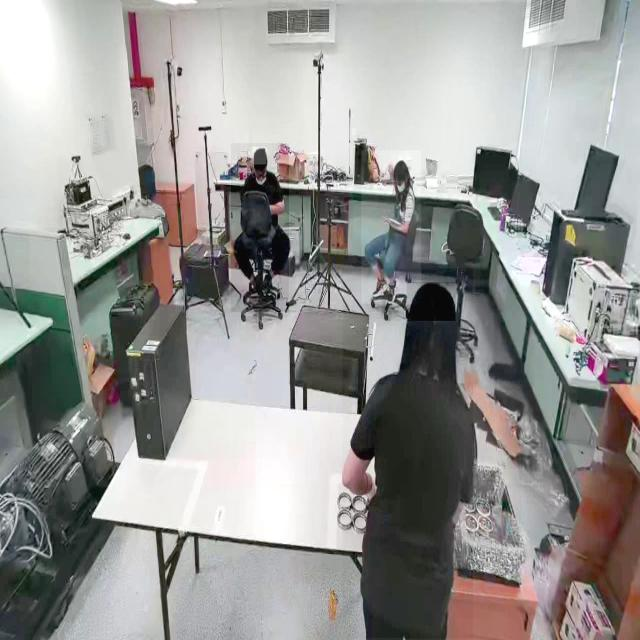head_nohelmet: (406, 282, 456, 322), (253, 147, 267, 165), (393, 159, 408, 175)
person: (342, 269, 473, 639), (231, 143, 289, 313), (362, 150, 422, 304)
shoes: (368, 274, 389, 301)
